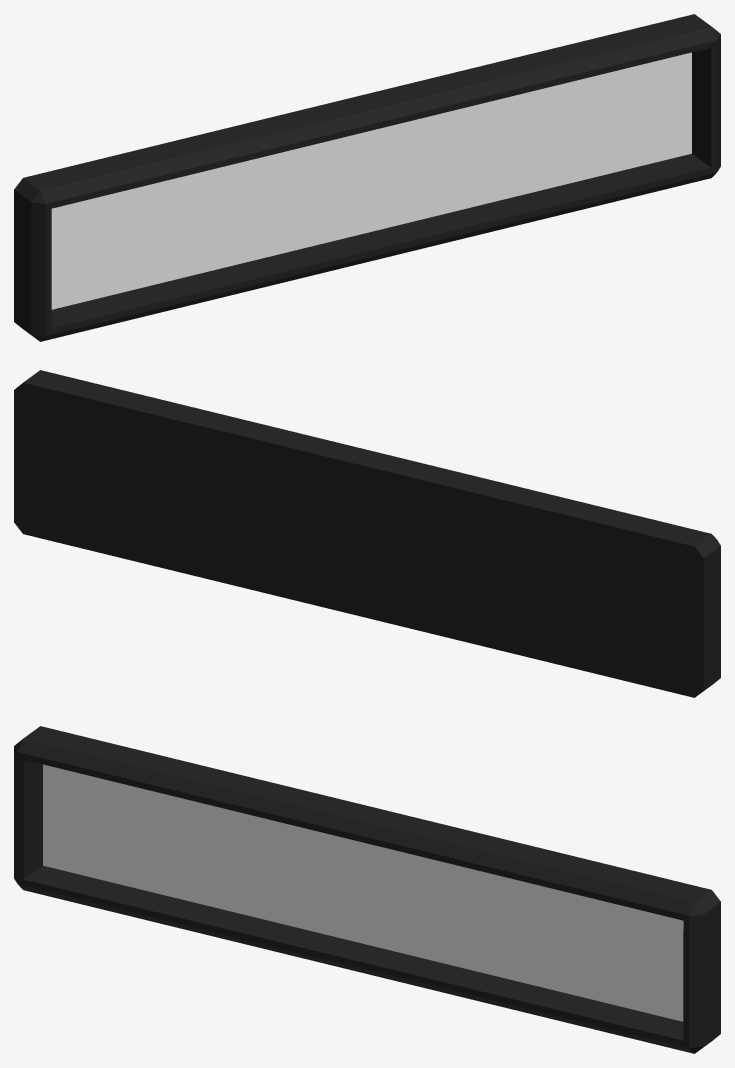
Rendered from 1_Light.fbx.
3 renders of one model, top to bottom at view 1: azimuth 30°, elevation 25°; view 2: azimuth 150°, elevation 25°; view 3: azimuth 330°, elevation 25°, orthographic.
Parts seen in each view (by area): view 1: single light; view 2: single light; view 3: single light.
Part boxes in pixels (<box>): single light: <box>14,14,720,341</box>; single light: <box>14,370,720,697</box>; single light: <box>14,726,720,1053</box>.
Bounding box in the file's own units: 111 × 23.24 × 6.28.
